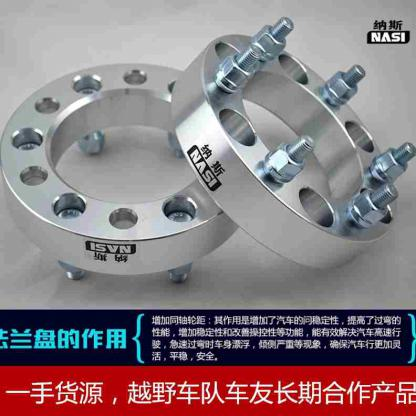FOD: (0, 56, 261, 282), (170, 29, 400, 272)
